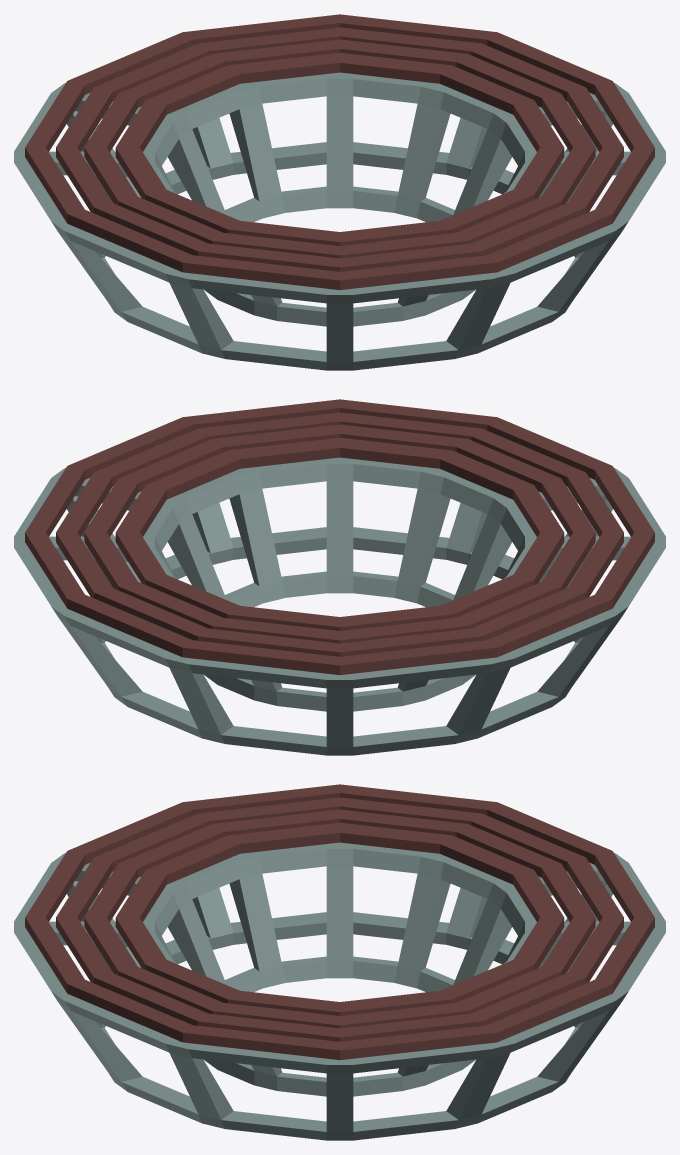
The model's file is circle_lav.fbx.
The picture shows the model from 3 angles, top to bottom: view 1: azimuth 30°, elevation 25°; view 2: azimuth 150°, elevation 25°; view 3: azimuth 270°, elevation 25°; orthographic projection.
Parts seen in each view (by area): view 1: Cylinder.020; view 2: Cylinder.020; view 3: Cylinder.020.
Part boxes in pixels (left/top/right/bottom): Cylinder.020: left=14, top=14, right=665, bottom=370; Cylinder.020: left=14, top=399, right=665, bottom=755; Cylinder.020: left=14, top=784, right=665, bottom=1140.
Bounding box in the file's own units: 454 × 89.42 × 454.
